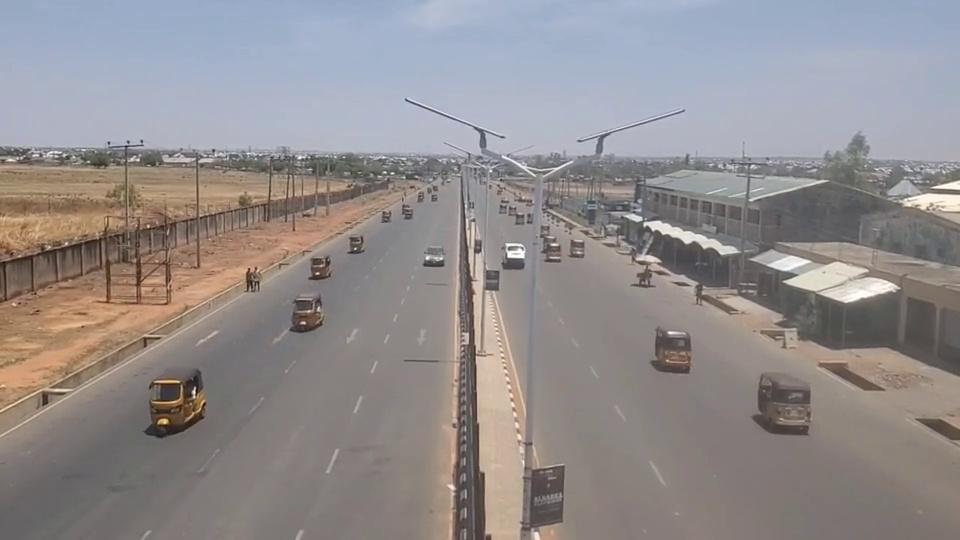keke: (147, 367, 206, 433), (756, 371, 812, 432), (653, 325, 691, 371), (290, 291, 323, 331)
